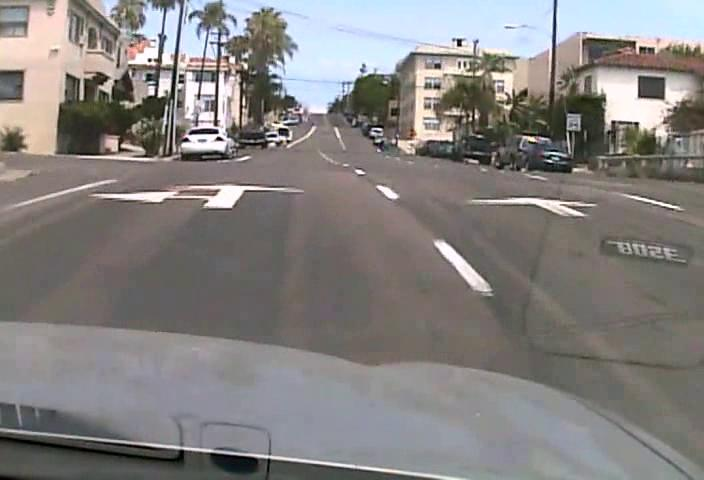speedLimitUrdbl: (565, 112, 581, 132)
